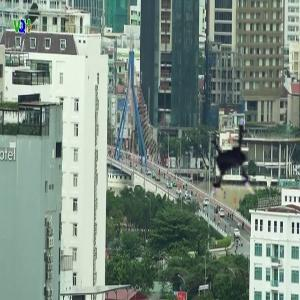drone: (190, 118, 287, 215)
